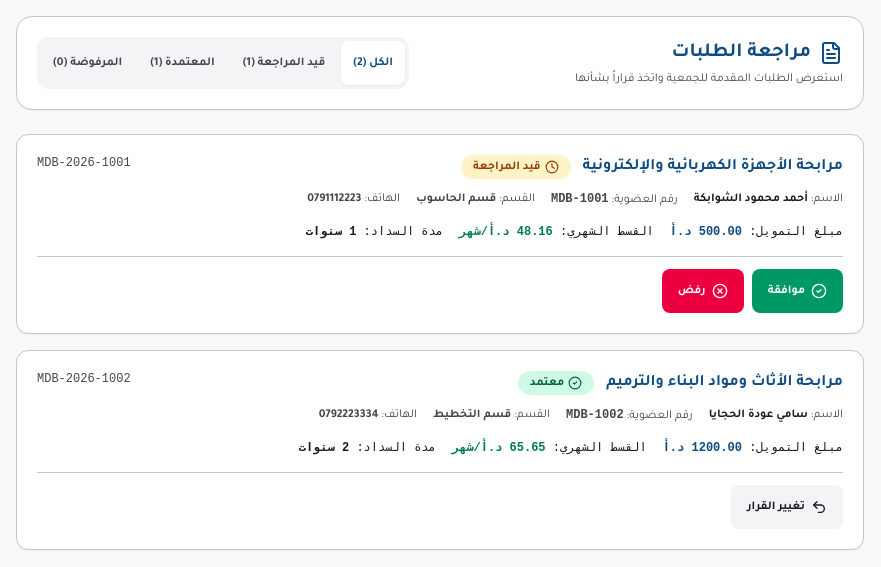
Test: AdminReview › filters applications by status chip
Expected: the number of elements with test id "admin-application" is 2, [16,134,864,334]; [16,350,864,550]
Click the button "المعتمدة (1)" at (182, 63), box [138,41,227,85]
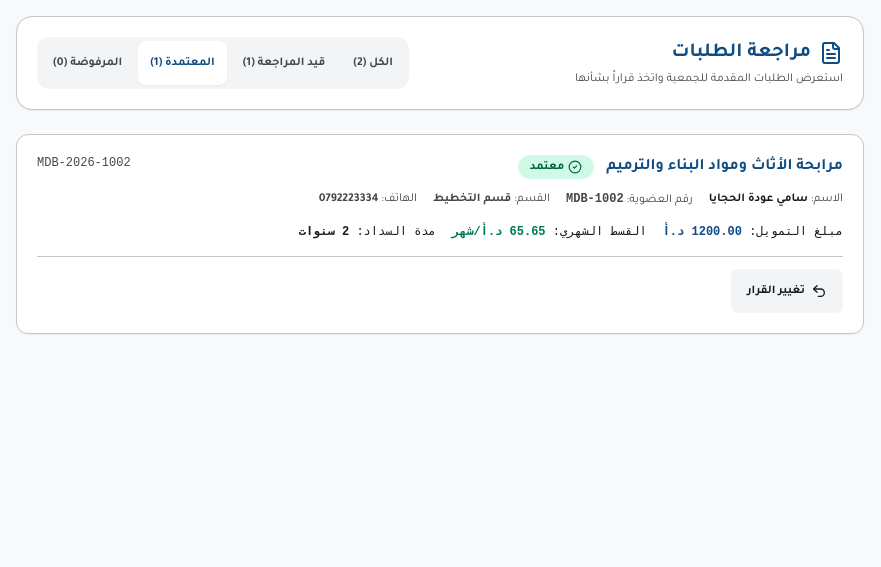
Expected: the text "سامي عودة الحجايا" is shown, [709,193,808,205]
Now the number of elements with test id "admin-application" is 1, box [16,134,864,334]
Now the text "أحمد محمود الشوابكة" is gone
